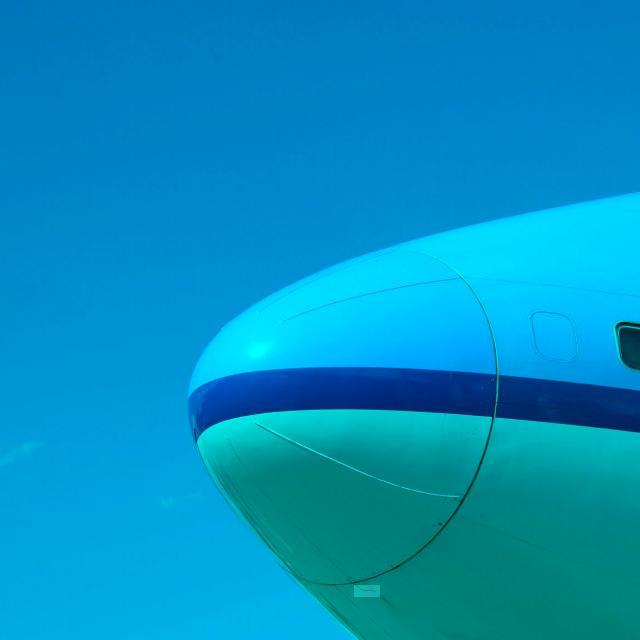crack: (355, 586, 382, 598)
